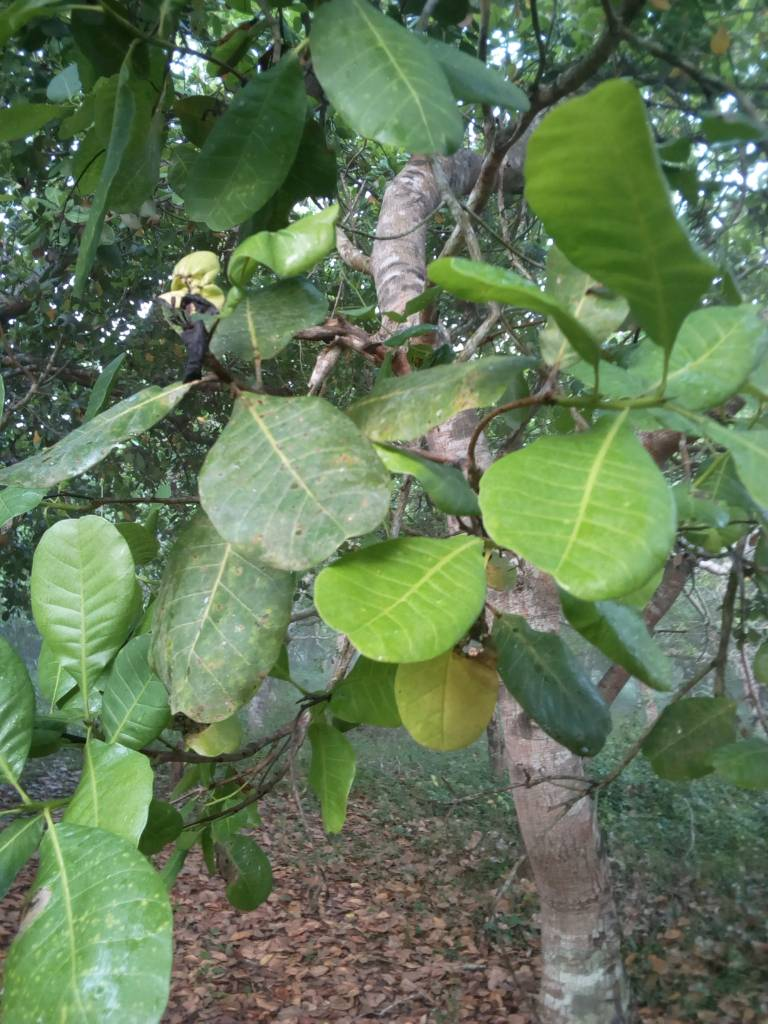Alternariose: (199, 391, 394, 577), (8, 824, 174, 1024), (152, 517, 291, 722), (350, 360, 485, 435)
